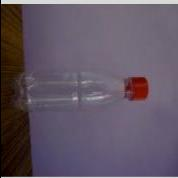bottle: (8, 66, 149, 116)
